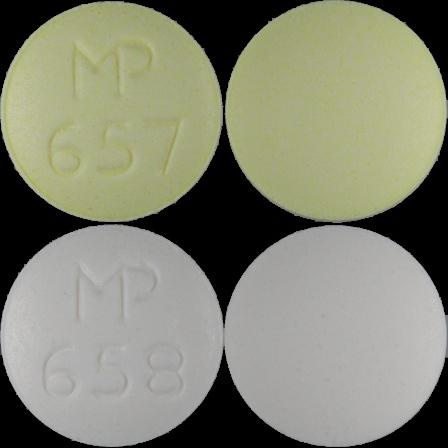51138-017: (0, 0, 224, 224)
